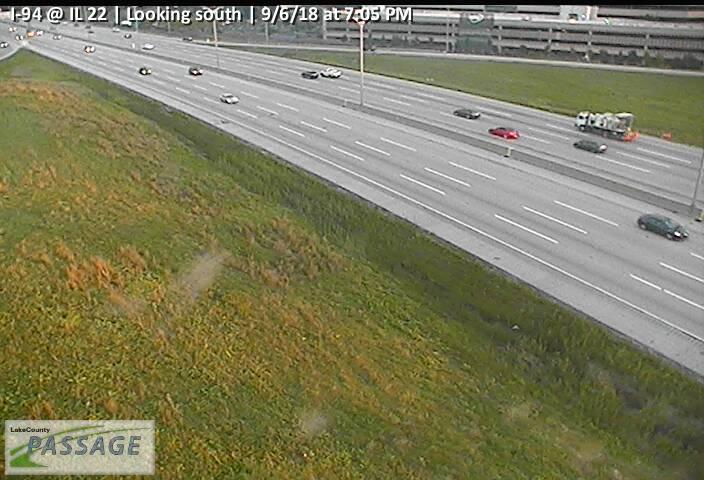Sedan: (637, 213, 689, 241), (572, 138, 605, 153), (487, 126, 517, 139), (454, 108, 479, 119), (320, 67, 341, 78), (219, 93, 239, 104), (302, 70, 318, 78), (189, 67, 202, 75), (139, 67, 151, 75)
Truck: (575, 109, 635, 139)
